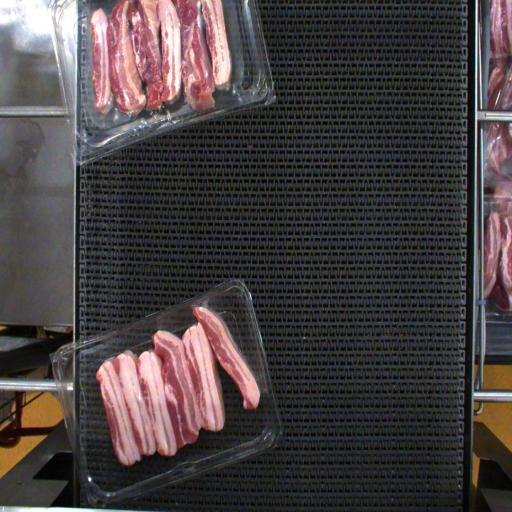loose-meat: (196, 298, 281, 415)
